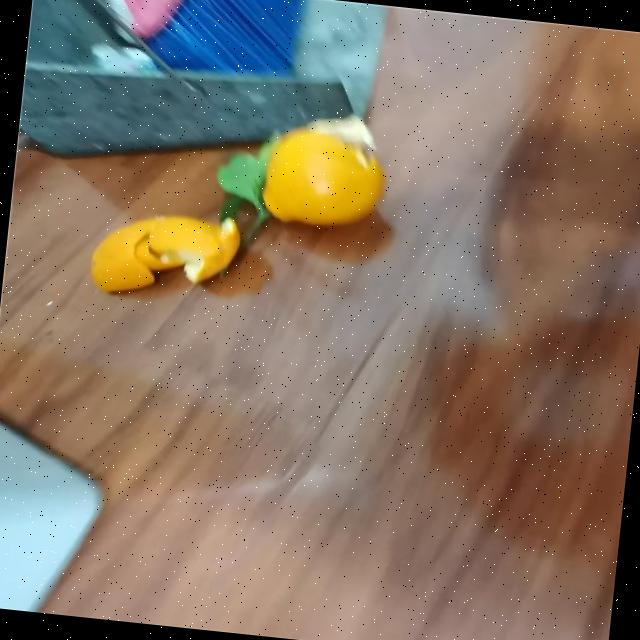orange-peel: (257, 121, 390, 232)
